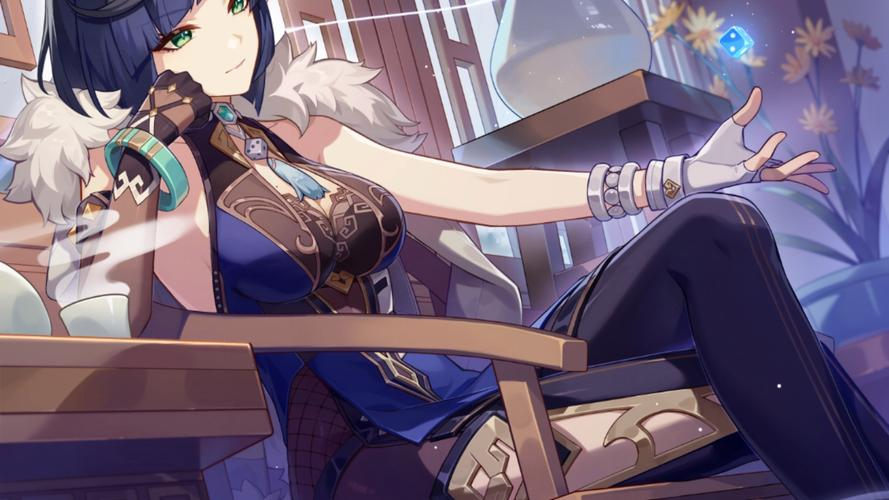夜兰: (35, 1, 887, 499)
